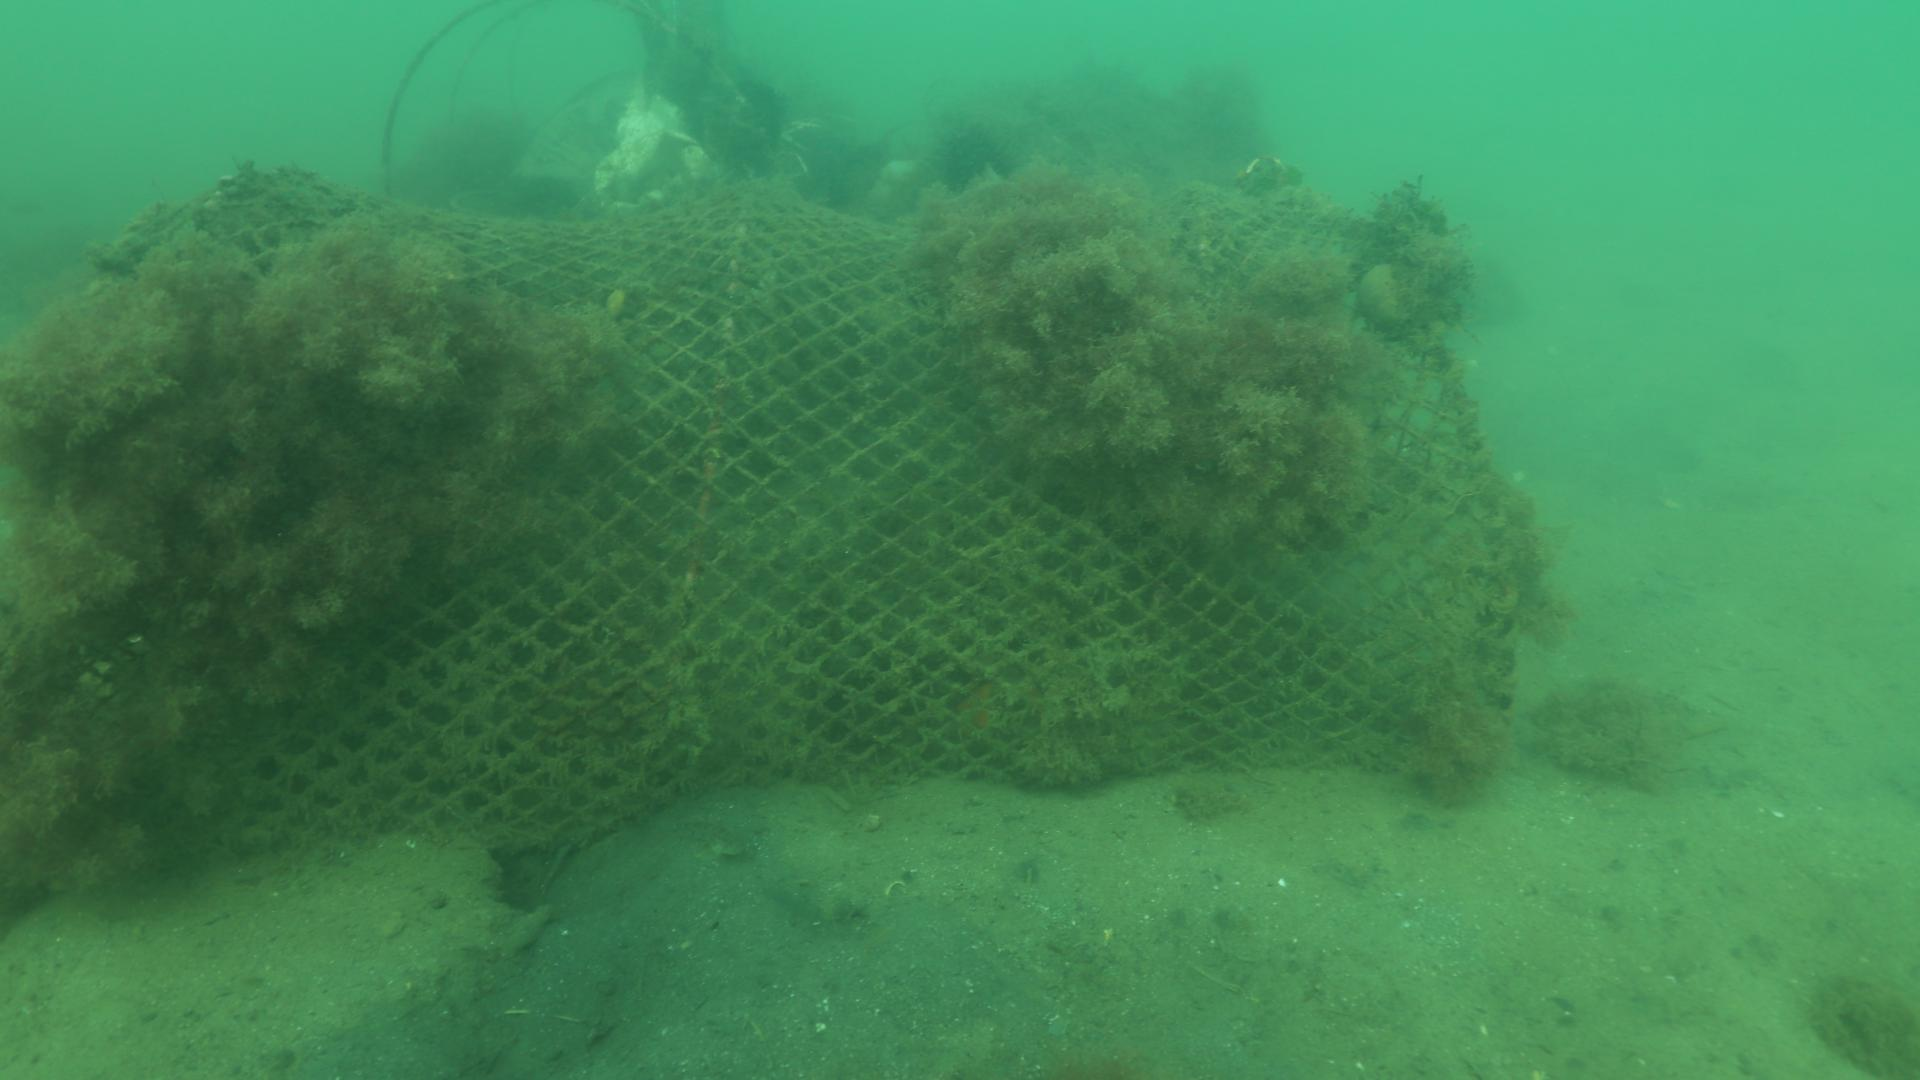spring fish trap: (88, 174, 1526, 862)
